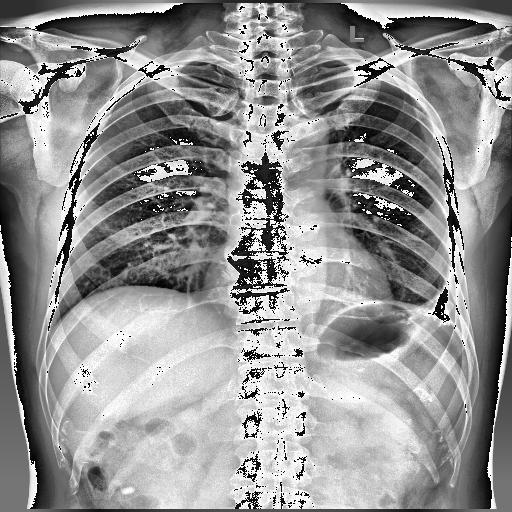0- Aortic enlargement: (266, 108, 328, 152)
10- Pleural effusion: (432, 258, 471, 345), (418, 268, 460, 340)
11- Pleural thickening: (392, 261, 460, 327), (432, 258, 471, 345), (418, 268, 460, 340), (302, 58, 372, 70)
2- Calcification: (422, 285, 450, 326), (428, 288, 452, 326)
9- Other lesion: (428, 288, 452, 326)
